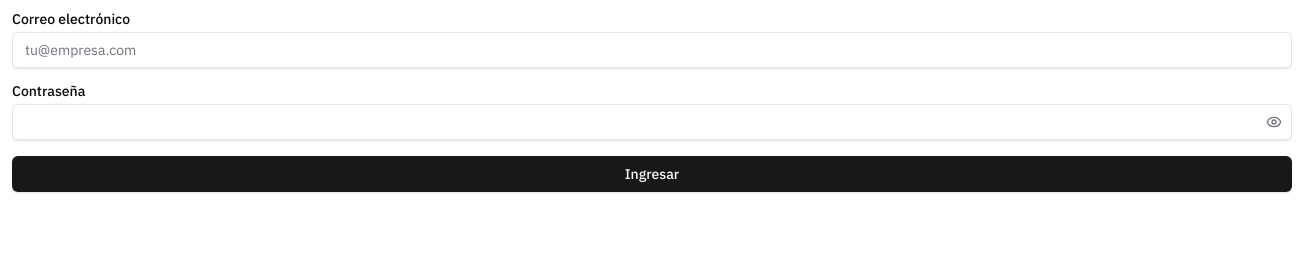
Login flow — integration › shows error when credentials are wrong
In the field labelled "Correo electrónico": (652, 50) x1=12 y1=32 x2=1292 y2=68, type "notexist@example.com"
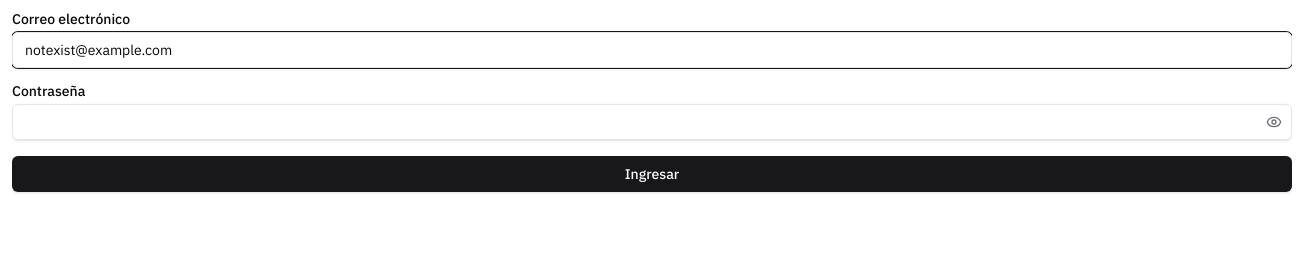
In the password field labelled "Contraseña": (652, 122) x1=12 y1=104 x2=1292 y2=140, type "wrong"
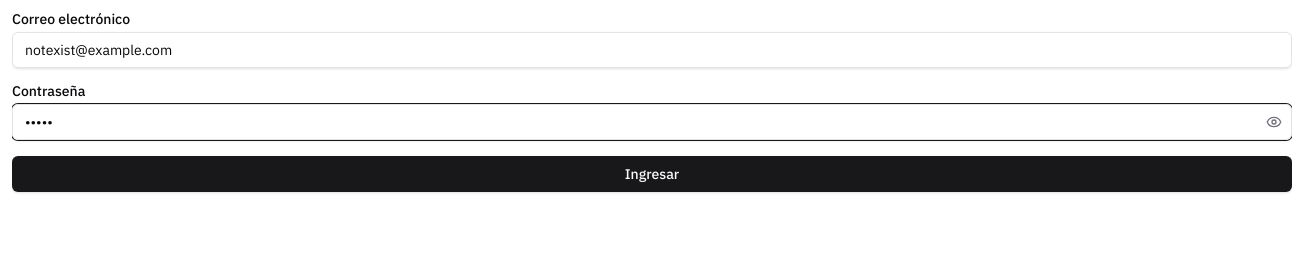
Click the button "Ingresar": (652, 174) x1=12 y1=156 x2=1292 y2=192
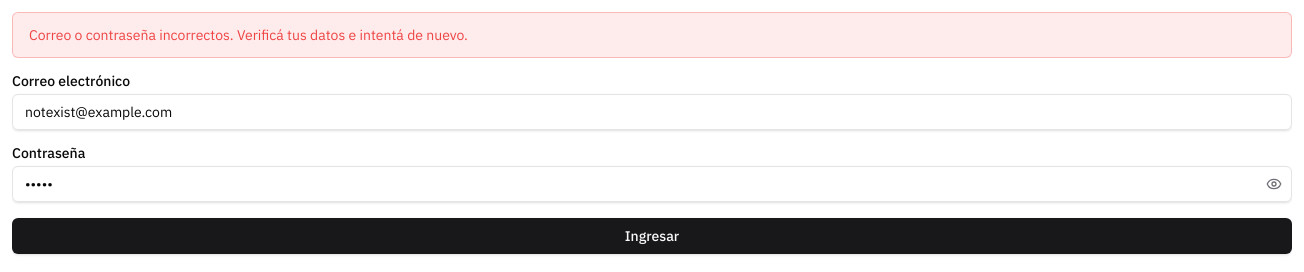
Expected: the message "Correo o contraseña incorrectos. Verificá tus datos e intentá de nuevo." is shown, x1=12 y1=12 x2=1292 y2=58
Expected: the message shows "Correo o contraseña incorrectos", x1=29 y1=26 x2=468 y2=44
